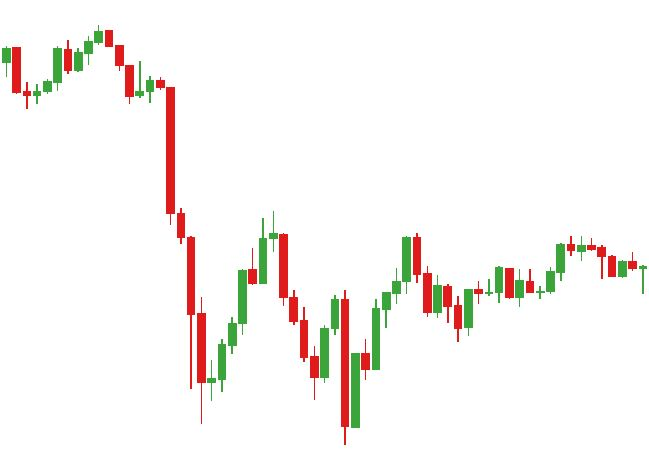buy: (196, 291, 361, 446)
